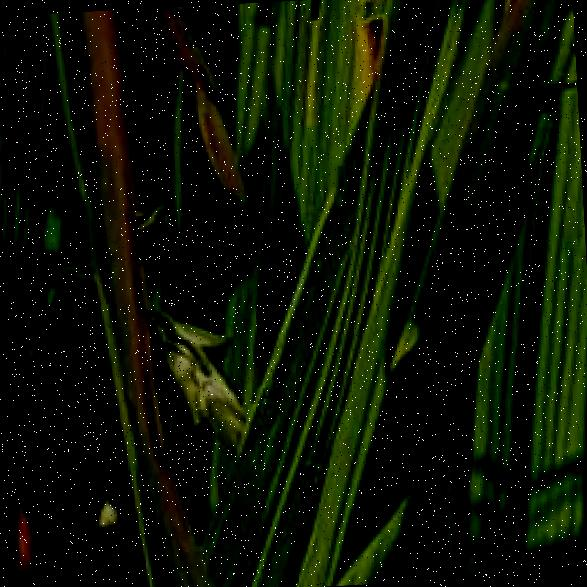Bacteria_Leaf_Blight: (69, 13, 208, 566)
